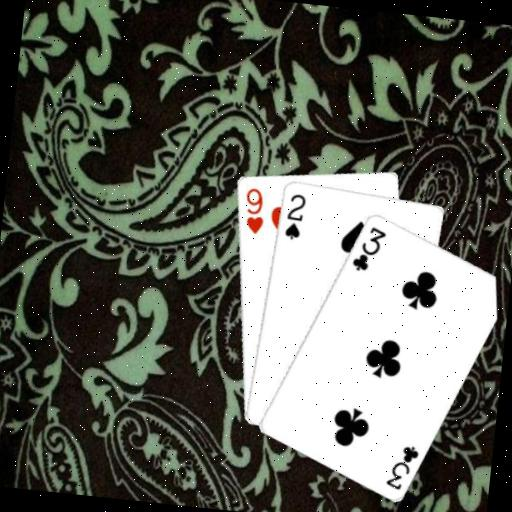2S: (281, 189, 308, 242)
3C: (348, 220, 389, 274), (382, 440, 422, 493)
9H: (239, 183, 269, 236)
